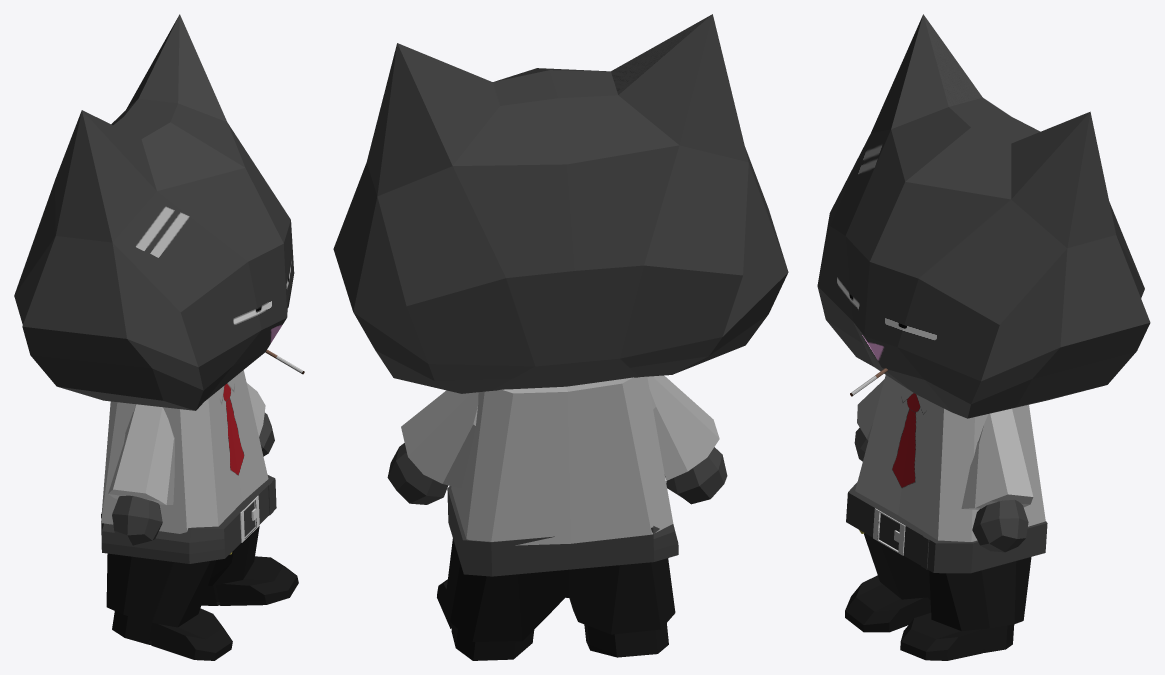
The model's file is Menú.fbx.
3 renders of one model, left to right at view 1: azimuth 30°, elevation 25°; view 2: azimuth 150°, elevation 25°; view 3: azimuth 270°, elevation 25°, orthographic. The views are drawn at different scales.
Parts seen in each view (by area): view 1: Cube.001; view 2: Cube.001; view 3: Cube.001.
Part boxes in pixels (box(x1,y1,x2,y2)): Cube.001: box(14, 14, 304, 660); Cube.001: box(333, 14, 788, 660); Cube.001: box(817, 14, 1150, 660).
Size of the model in its own units: 228 by 386 by 209.
